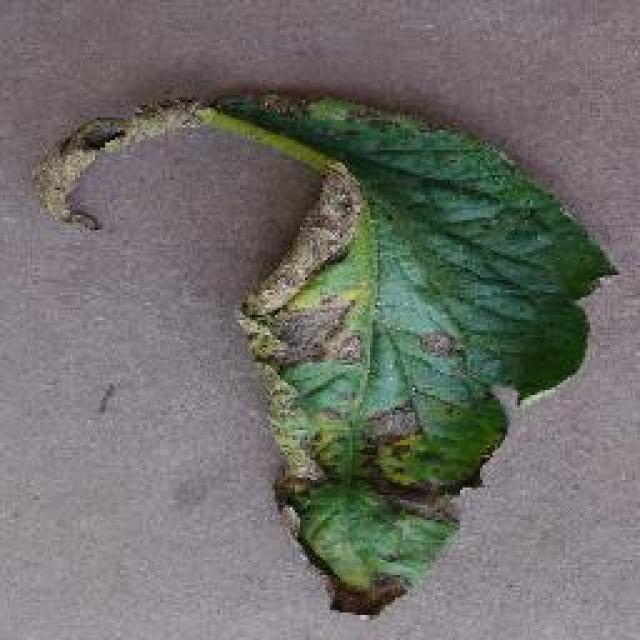Tomato___Early_blight: (23, 90, 626, 621)
